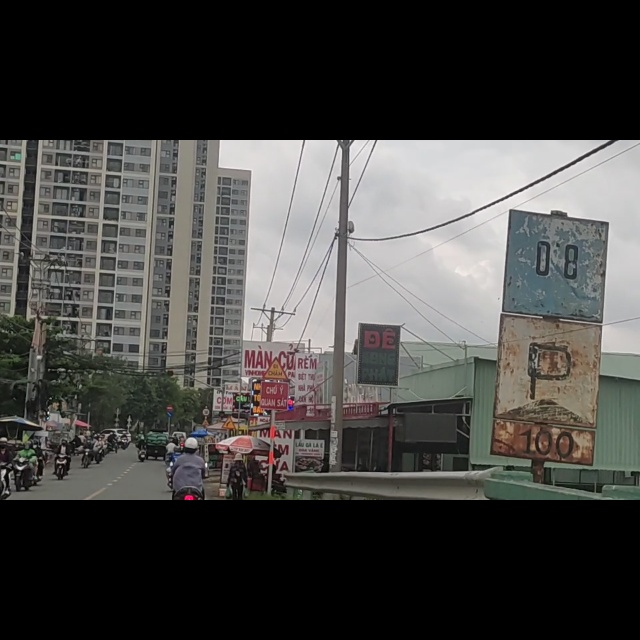bien_nguy_hiem: (263, 385, 289, 427)
